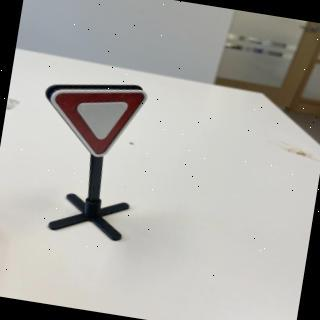duck_specialty: (35, 77, 162, 170)
